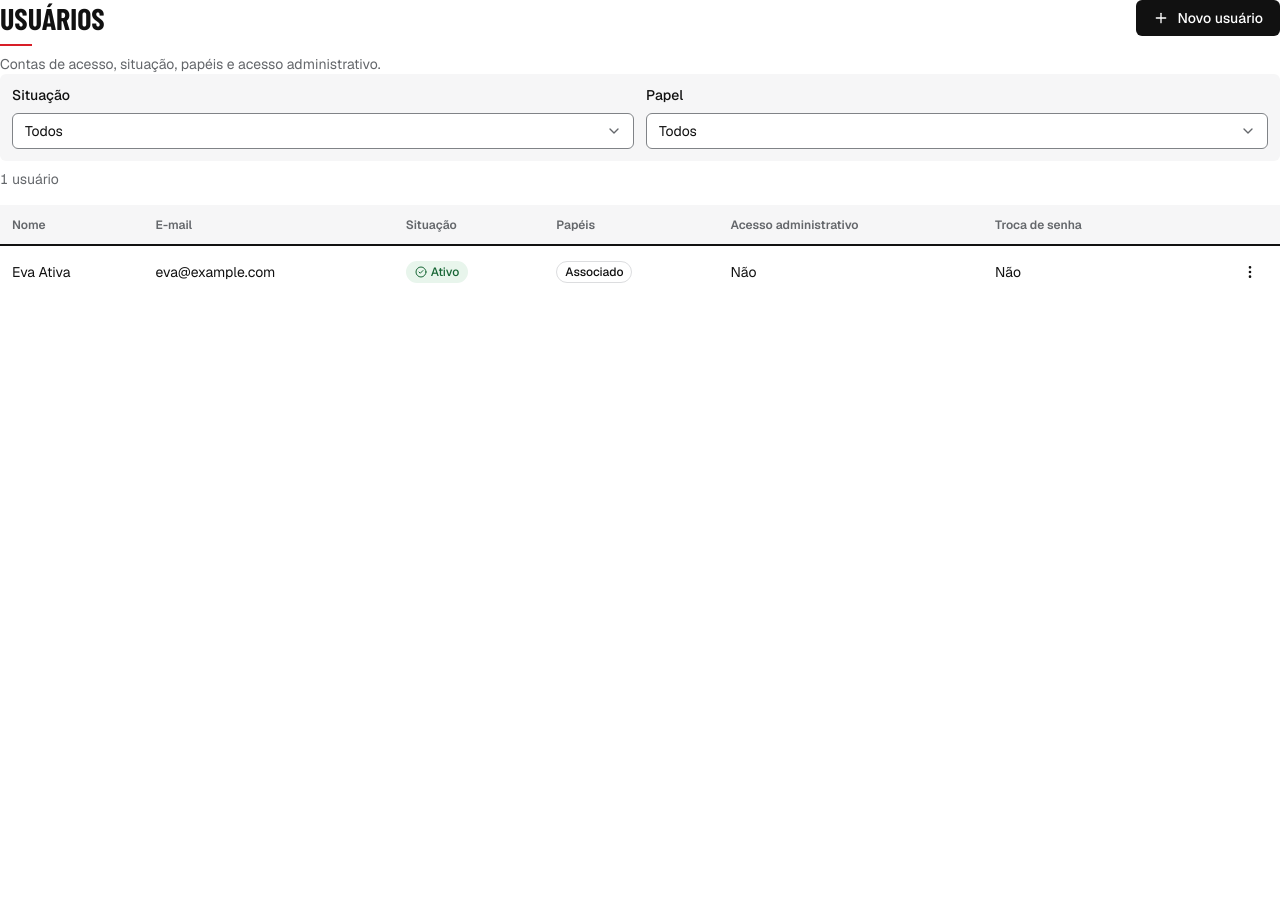
Test: confirmações (DSP-03 AC2, AC3 e AC5) › Desativar Eva Ativa: nomeia a pessoa, diz a consequência e o botão repete o verbo
This screenshot has width=1280, height=900.
Expected: the text "eva@example.com" is shown, [144,245,394,298]
What coordinates should you click on to do the following:
click the button named "Ações de Eva Ativa"
I would click on:
 (1250, 272)
Its box is [1232,254,1268,290].
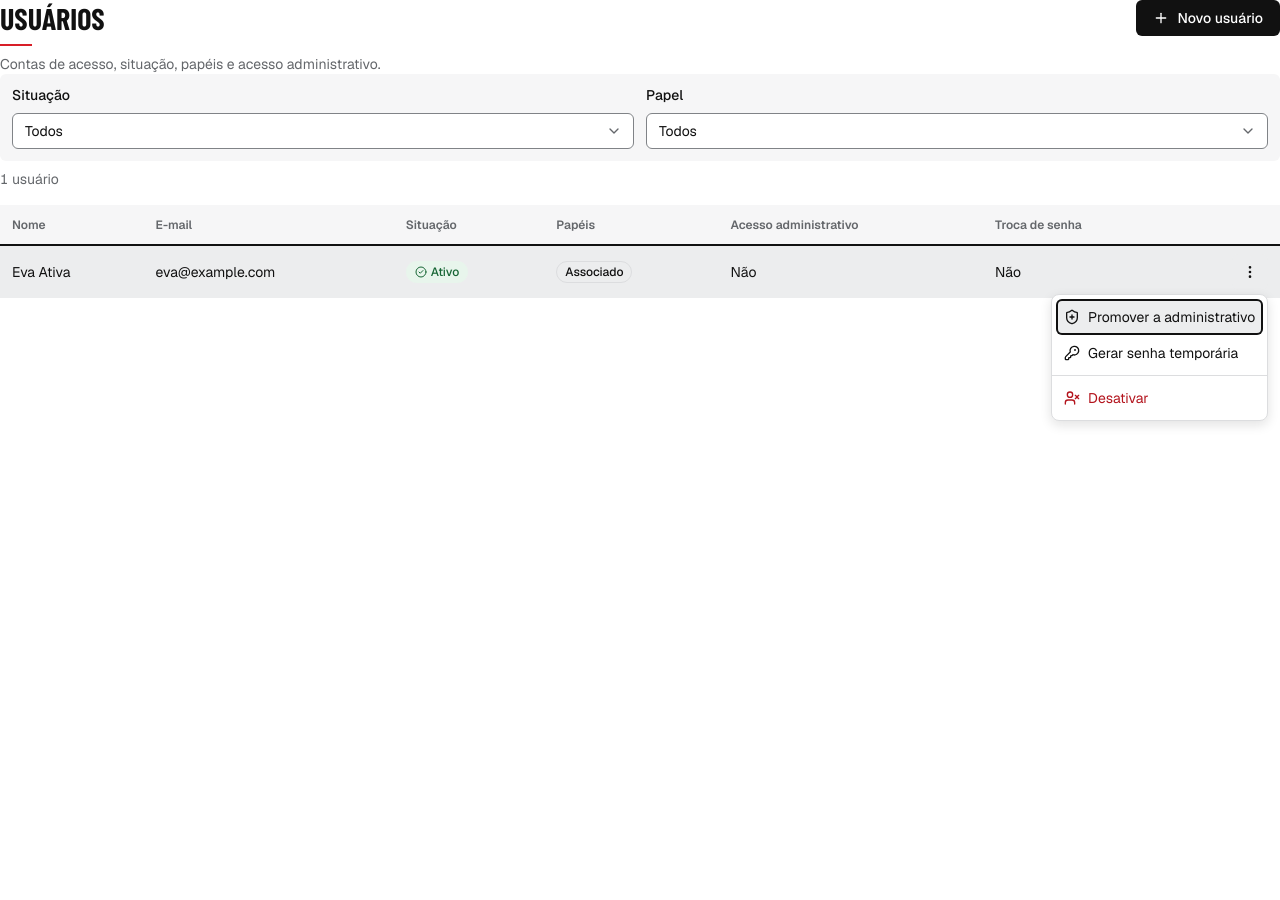
Expected: the menu is shown, [1051,294,1268,421]
What coordinates should you click on to do the following:
click the menu item with aria-label "Desativar Eva Ativa"
I would click on:
 (1106, 398)
Its box is [1064,389,1149,407].
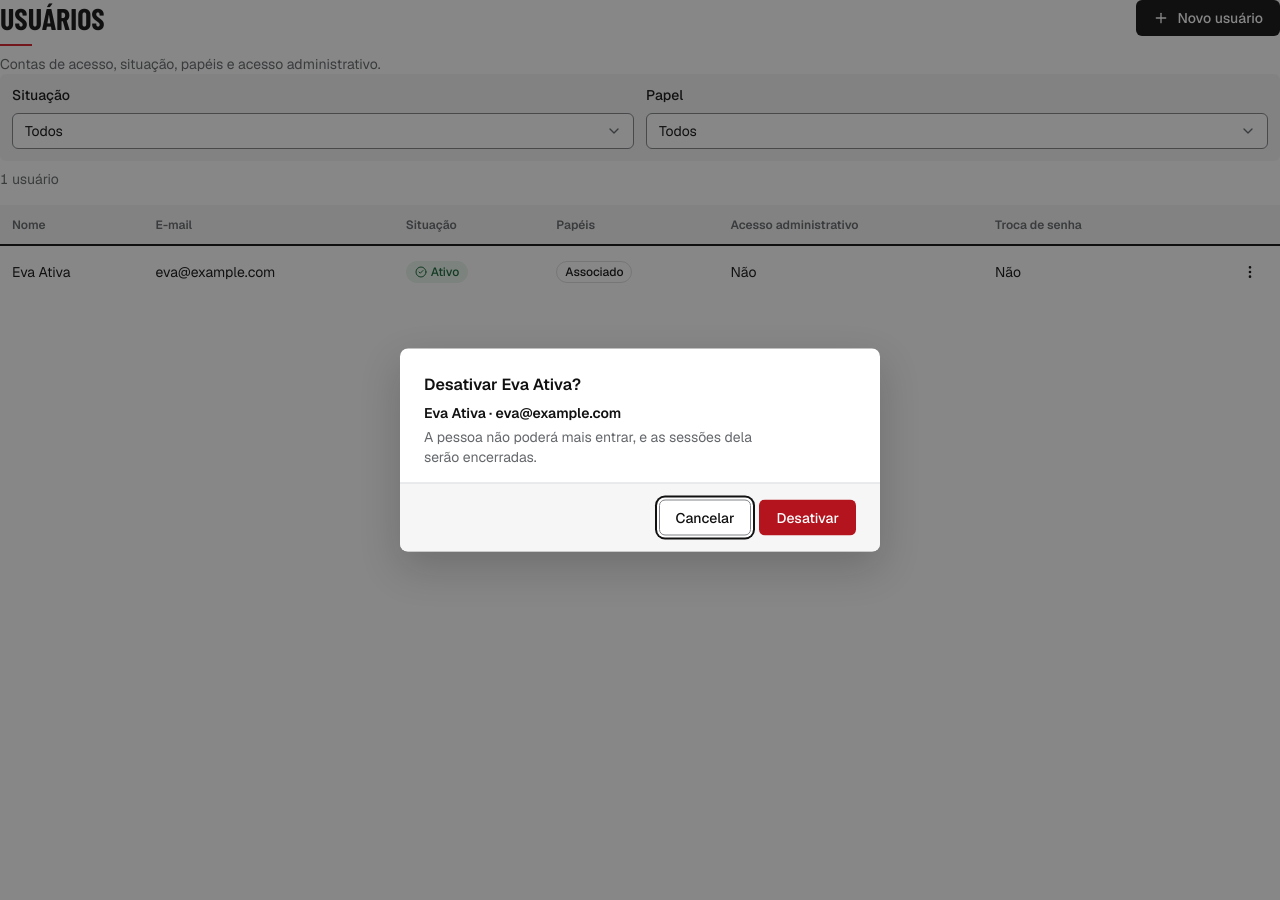
Expected: the text "A pessoa não poderá mais entrar, e as sessões dela serão encerradas." is shown, [424,428,752,466]
